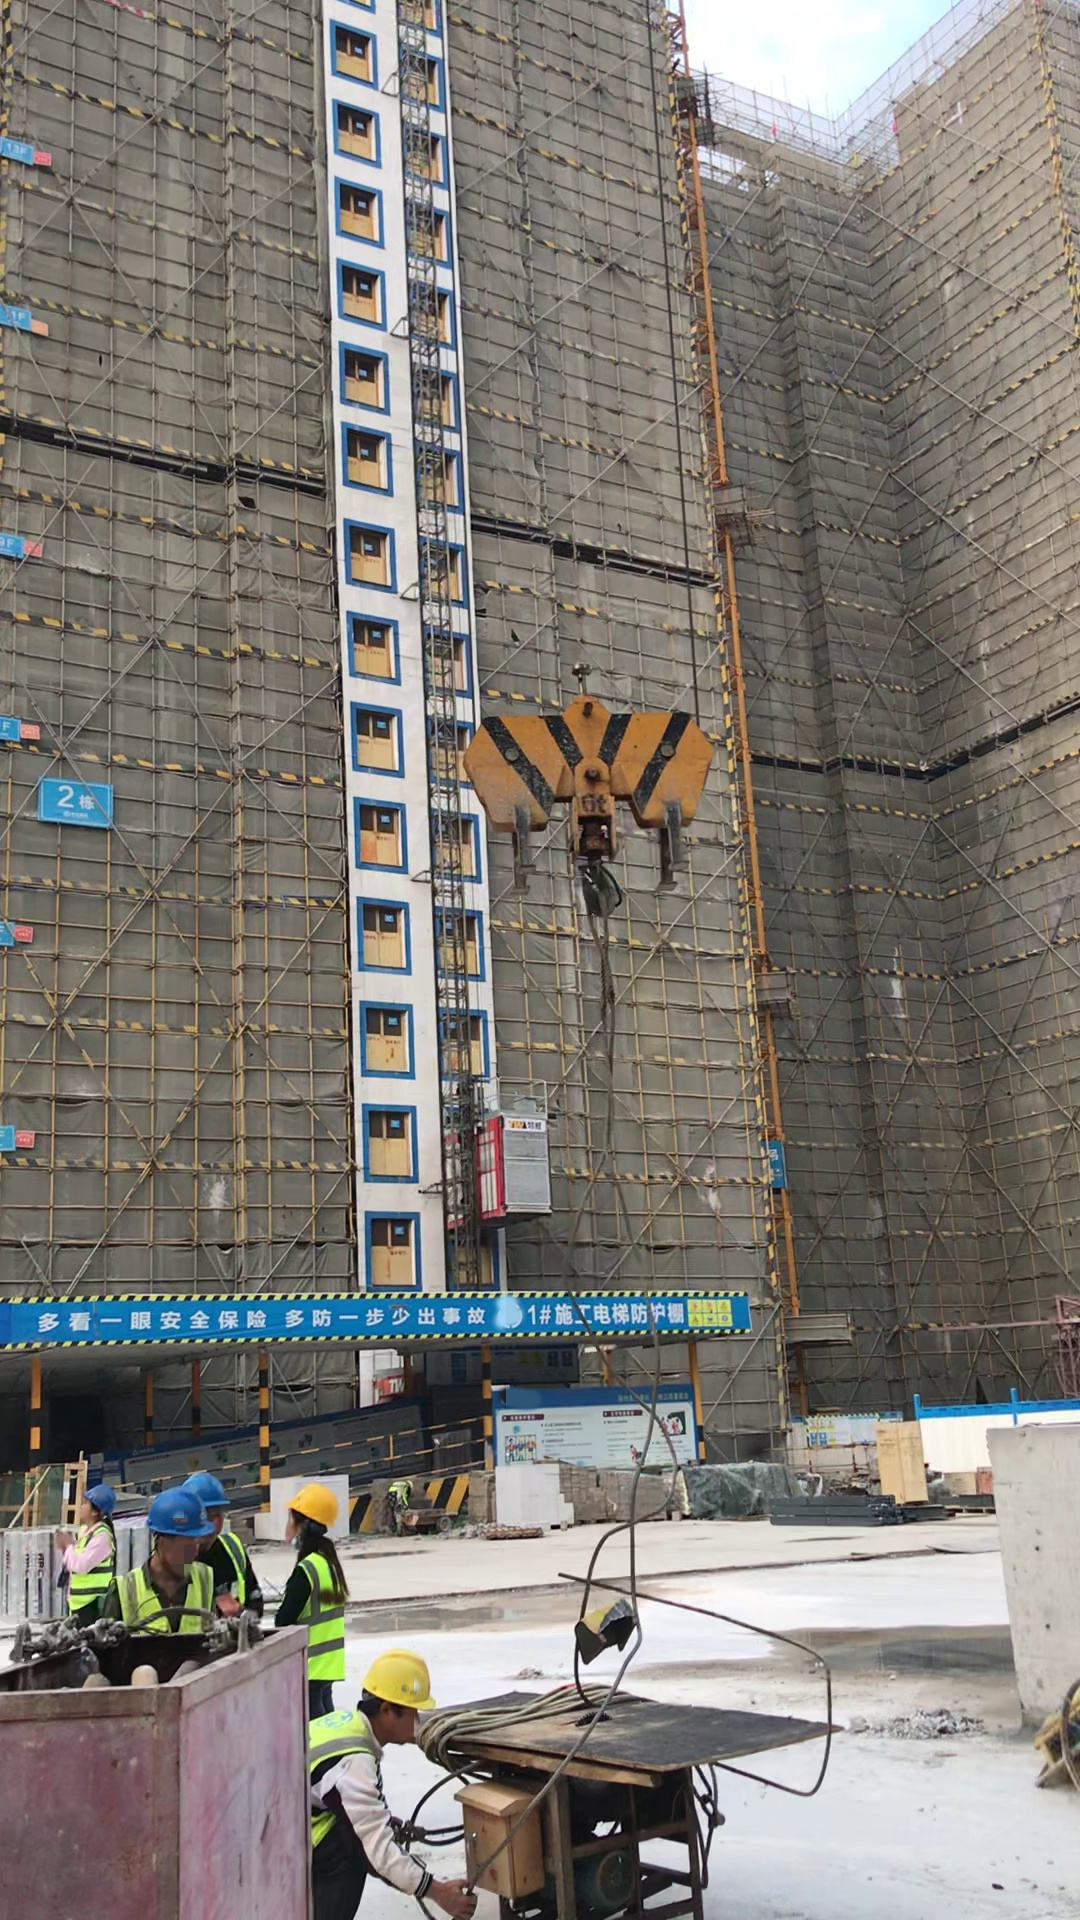brick: (252, 1475, 352, 1542), (494, 1462, 573, 1529)
cutter: (436, 1674, 846, 1920)
ebox: (457, 1784, 551, 1903)
helmet: (363, 1655, 436, 1710), (153, 1491, 214, 1540), (288, 1479, 336, 1533), (181, 1471, 231, 1506), (82, 1487, 115, 1519)
hook: (462, 692, 720, 916)
person: (308, 1653, 477, 1920), (273, 1478, 349, 1712), (180, 1463, 280, 1639), (120, 1491, 239, 1629), (57, 1486, 122, 1602)
slogan: (32, 1303, 487, 1327), (688, 1296, 736, 1327)
vest: (307, 1706, 373, 1844), (290, 1555, 347, 1682), (126, 1561, 208, 1632), (68, 1524, 115, 1604)
